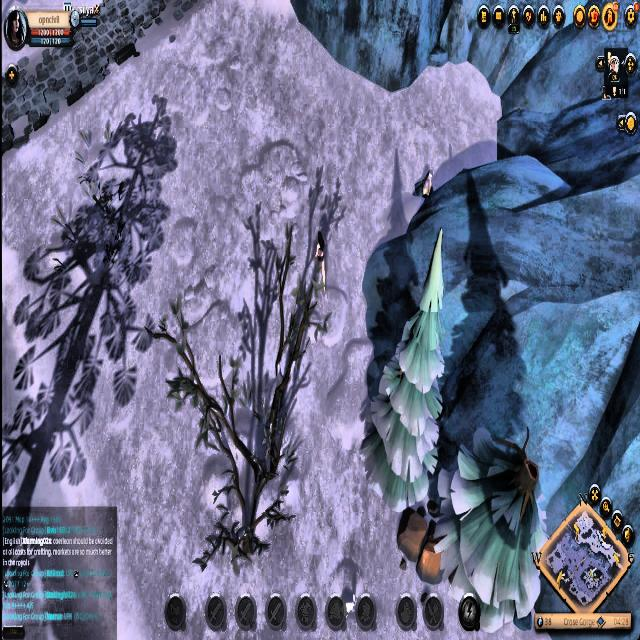copper_ore: (412, 168, 435, 205)
limestone: (395, 497, 451, 587)
